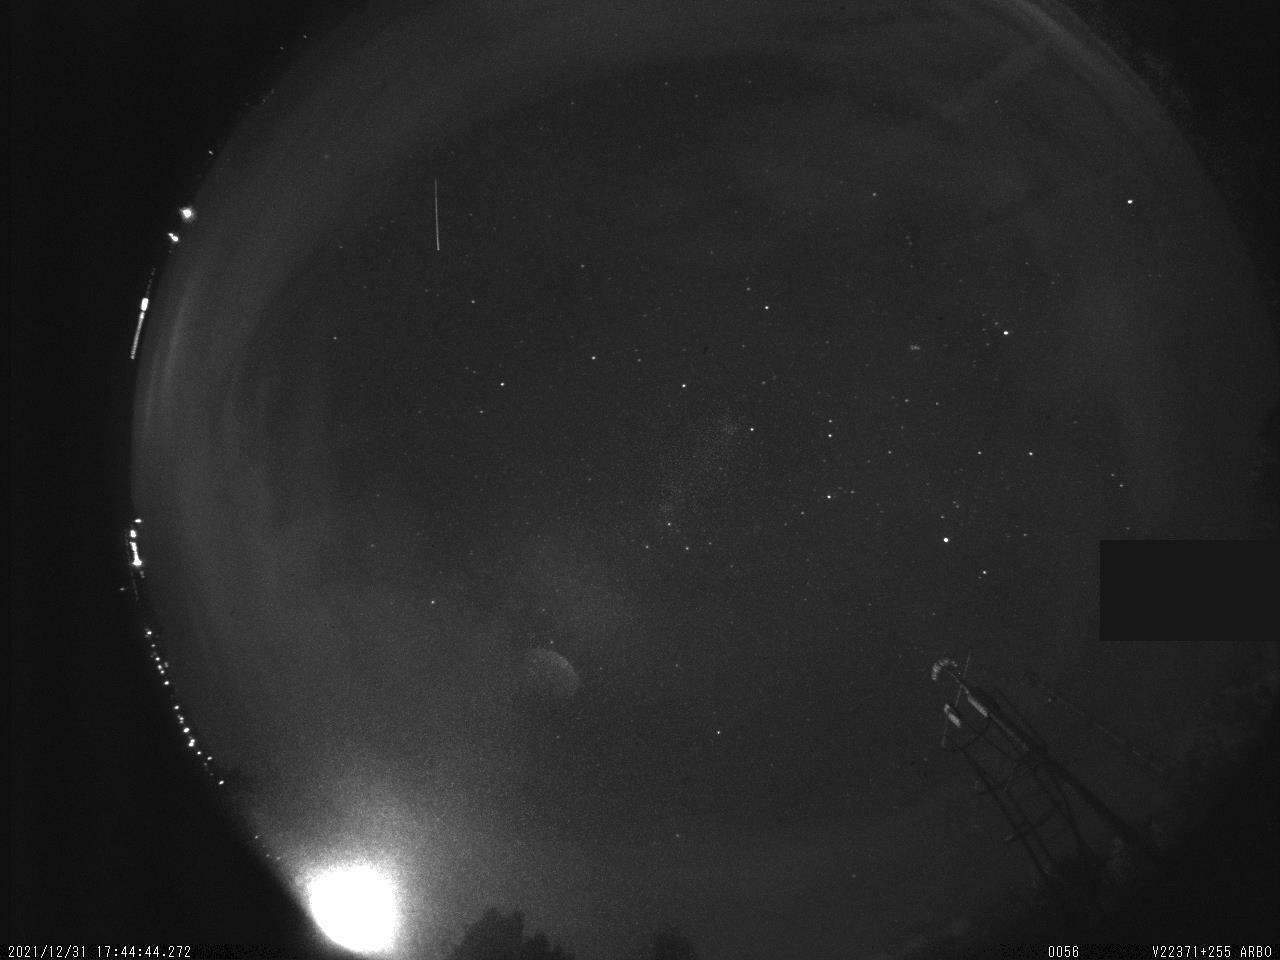meteor: (413, 174, 465, 260)
